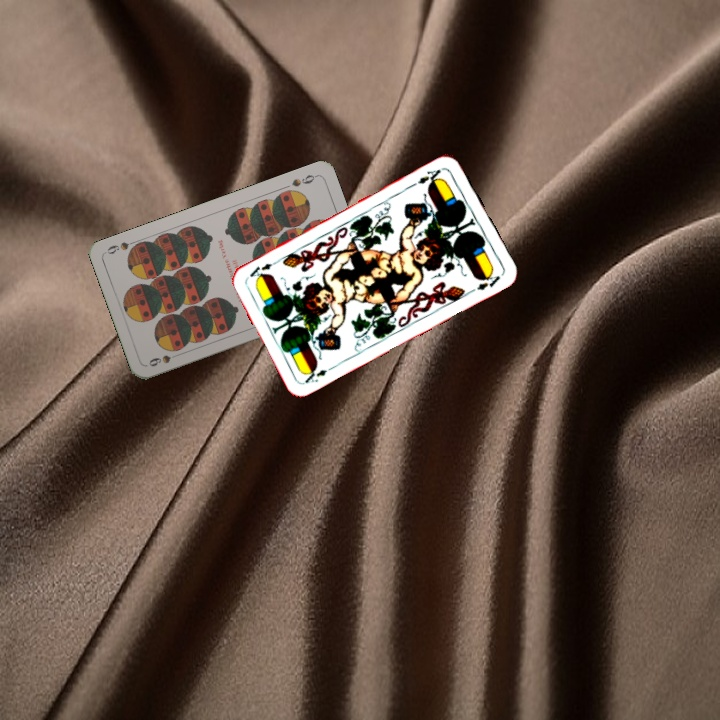EA: (300, 361, 338, 386), (414, 165, 445, 188)
S9: (144, 349, 184, 369), (288, 171, 319, 189)
